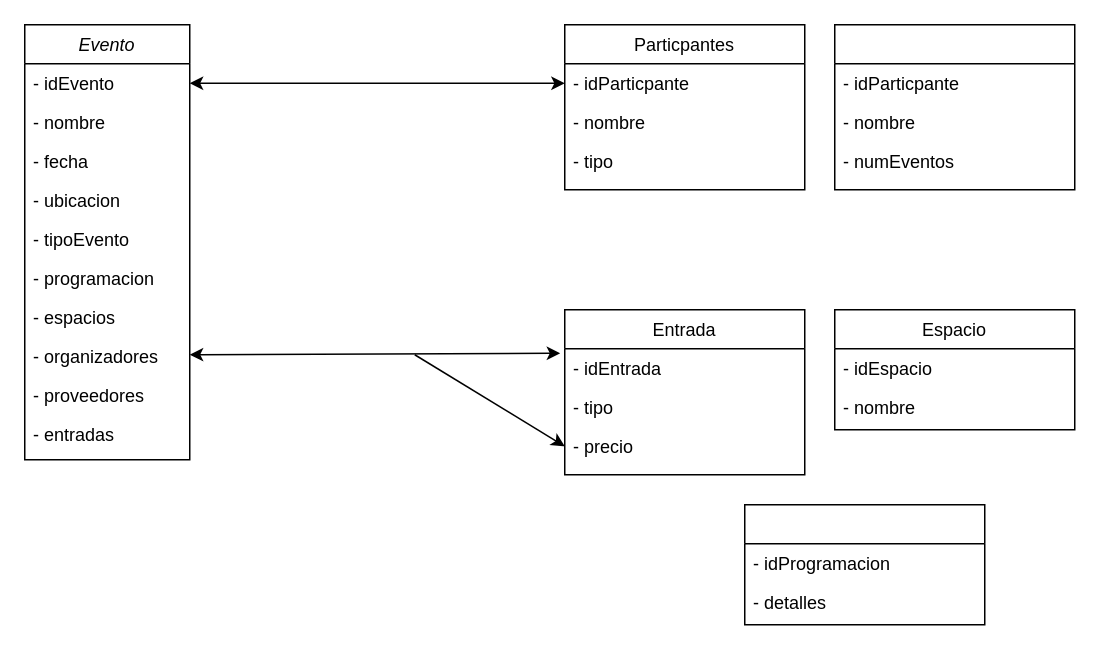
This 1100x650 diagram has some shape labels left out. Here are the shapes that lost their labels. From the top down, the box of each, then its label:
(833, 23, 1075, 190): Proveedores
(743, 503, 985, 625): Porgramacion
